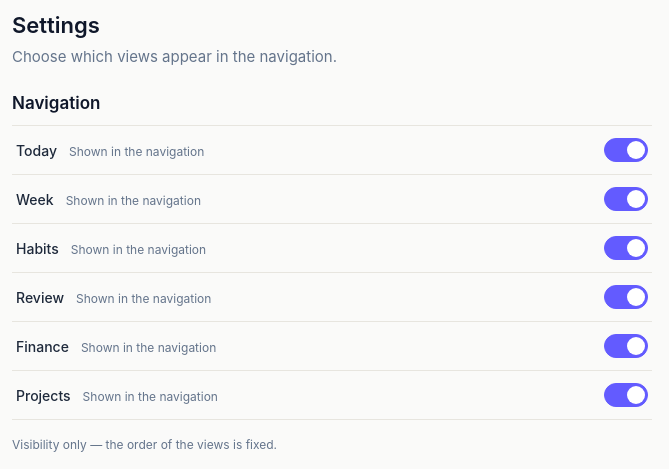
it: SettingsView — the page › writes the canonical array to the settings key on a permitted toggle
Step 1. Click the switch named "Show Week in the navigation" → click(626, 199), box [604,187,648,211]
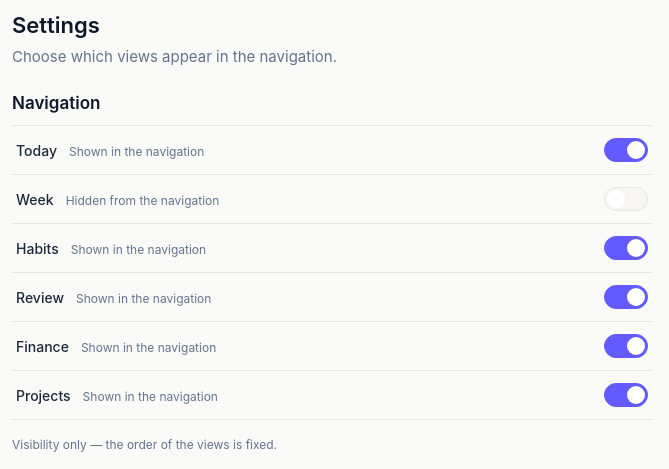
Expected: the text "Hidden from the navigation" is shown, [66,192,219,210]
